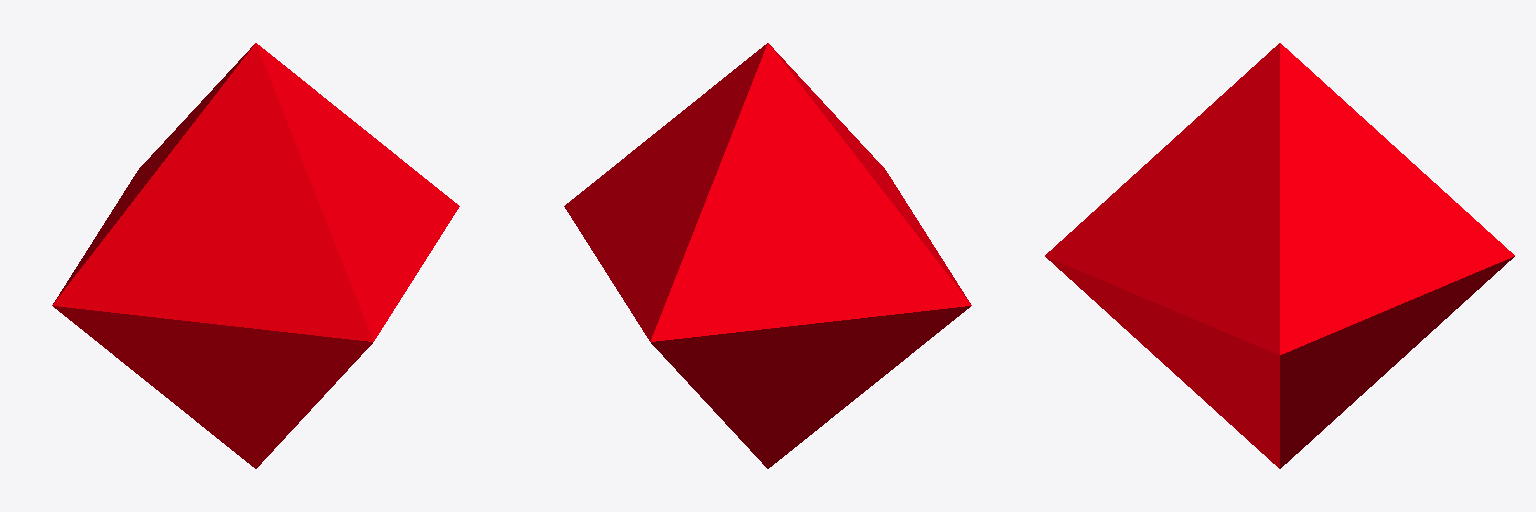
The picture shows the model from 3 angles: view 1: azimuth 30°, elevation 25°; view 2: azimuth 150°, elevation 25°; view 3: azimuth 270°, elevation 25°; orthographic projection.
Parts seen in each view (by area): view 1: 反射_立方体.001; view 2: 反射_立方体.001; view 3: 反射_立方体.001.
Boxes of the visible parts, x1=… form: 反射_立方体.001: x1=52, y1=43, x2=459, y2=468; 反射_立方体.001: x1=564, y1=43, x2=971, y2=468; 反射_立方体.001: x1=1045, y1=43, x2=1514, y2=468.
Bounding box in the file's own units: 2 × 2 × 2.
Materials: 1 (1 with a texture image).